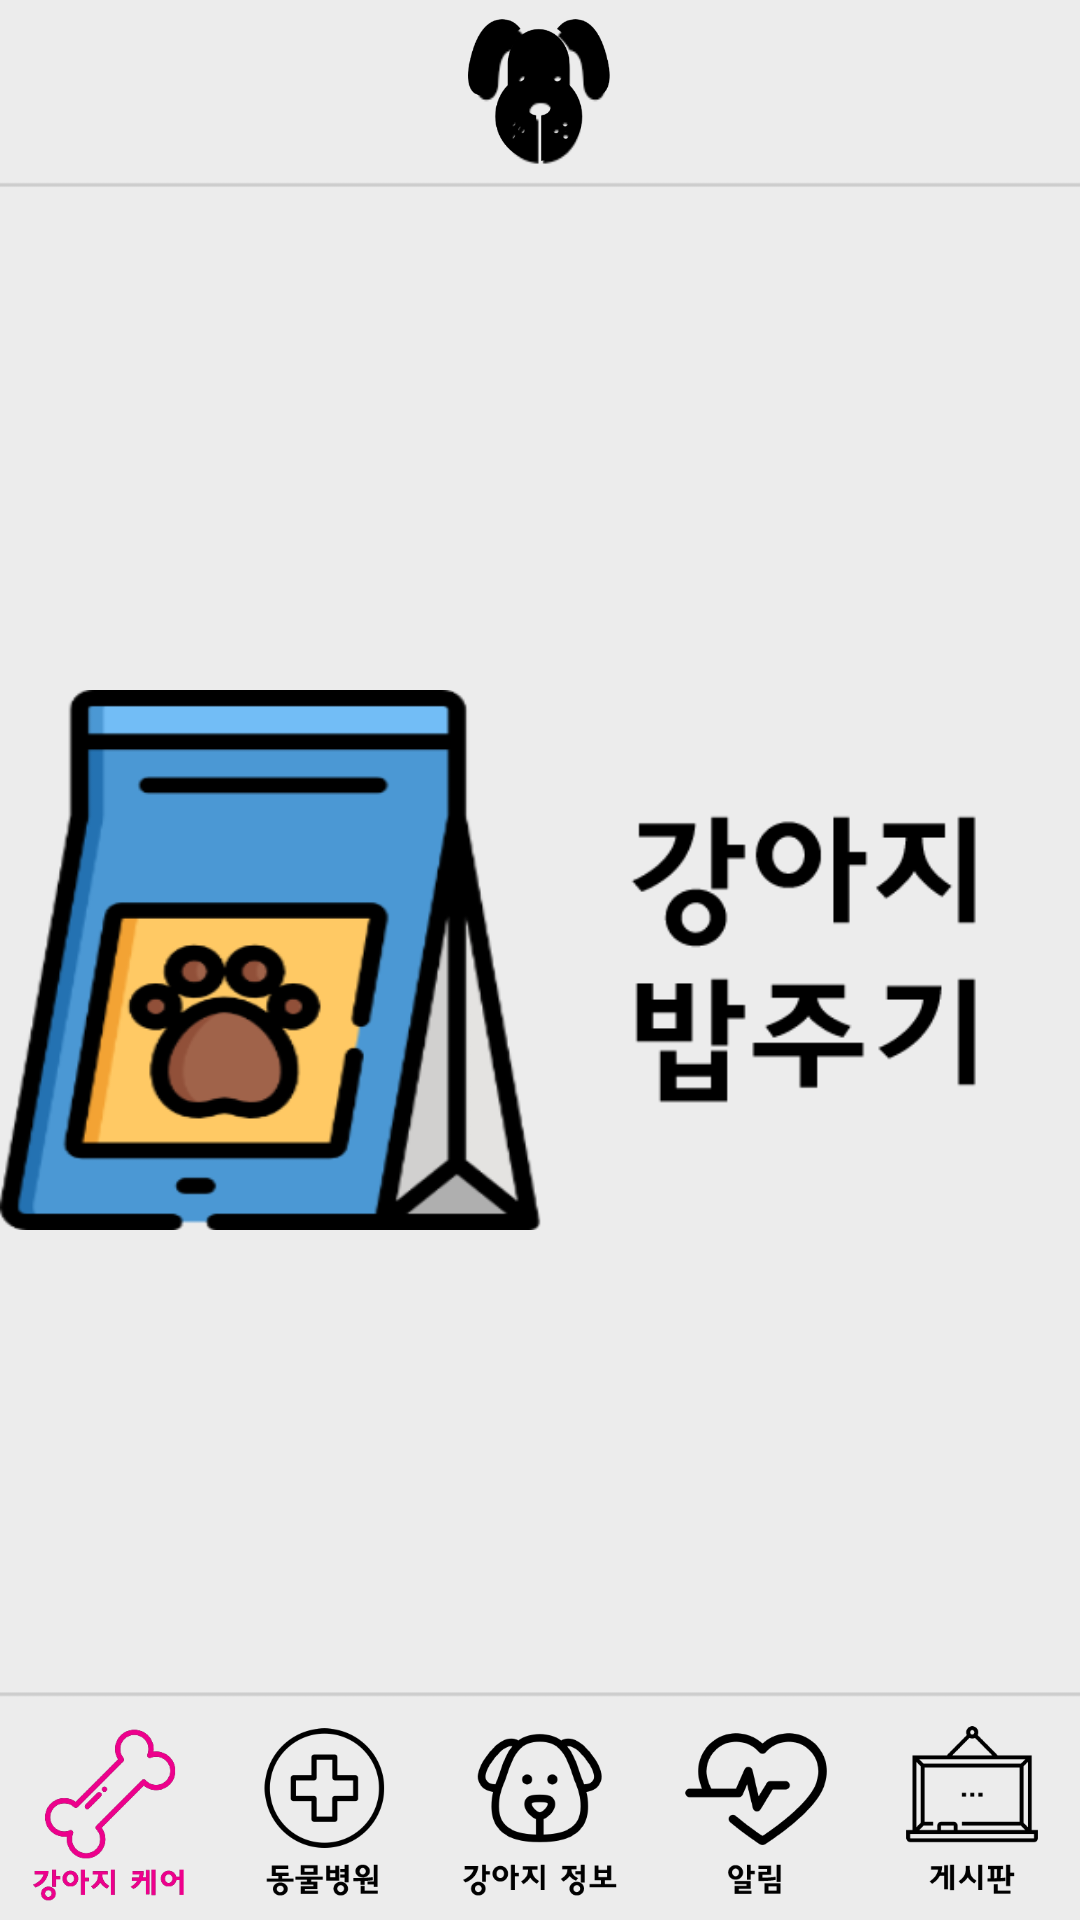

Icons on this 1080*1920 Android screen, each with its box as (x1, y1, x2, y2):
dogdogface: (468, 19, 610, 164)
